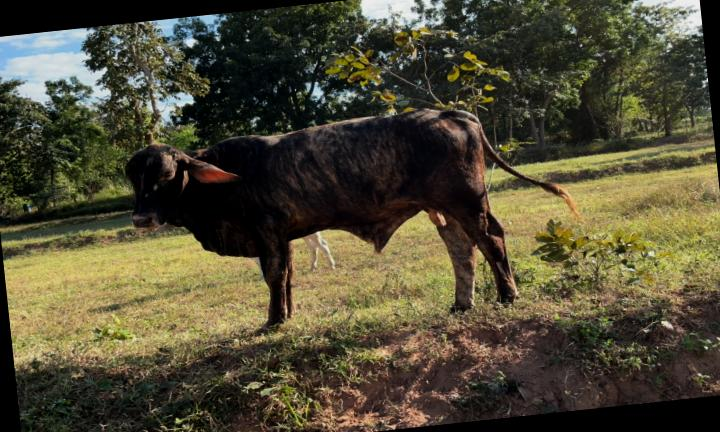Charolais: (125, 108, 576, 330)
